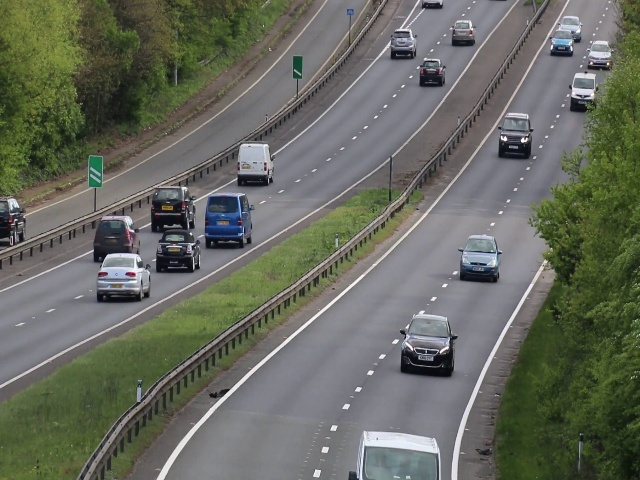car: (354, 432, 441, 480), (399, 312, 456, 378), (95, 252, 152, 301), (205, 195, 254, 245), (94, 215, 140, 262), (149, 186, 196, 231), (459, 235, 501, 282), (156, 230, 201, 272), (238, 142, 276, 184), (499, 111, 531, 160), (1, 195, 28, 241), (571, 71, 597, 109), (390, 28, 416, 58), (419, 57, 445, 86), (451, 18, 478, 45), (587, 41, 611, 69), (549, 30, 573, 55)
